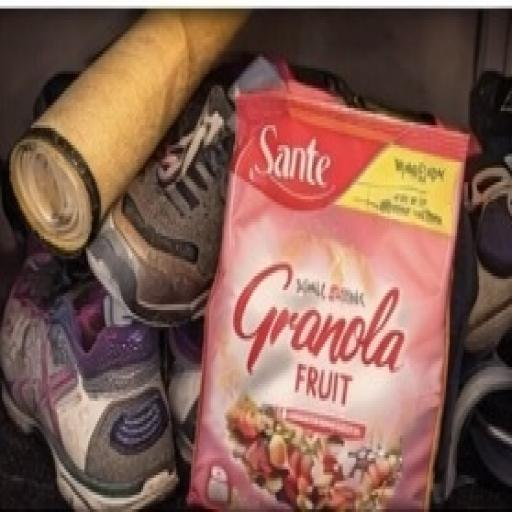granola: (186, 42, 470, 512)
